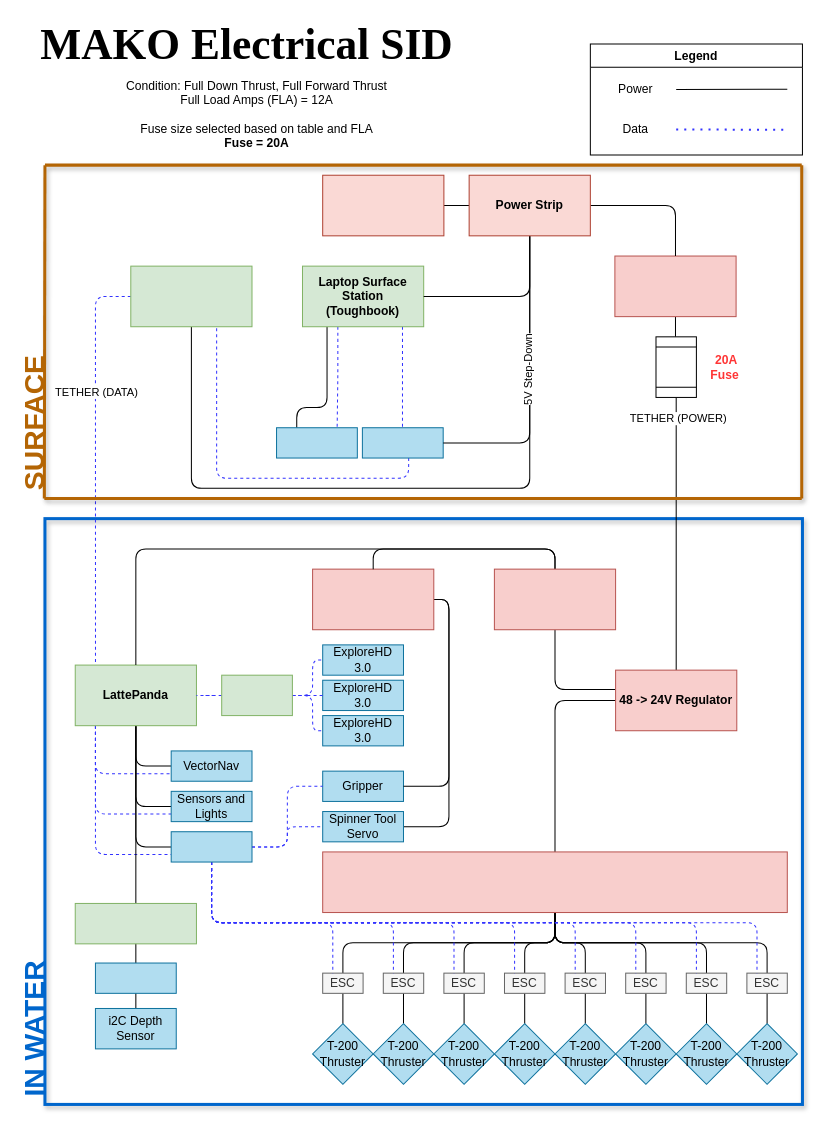
Some shapes in this 828 by 1130 pixel diagram are drawn without their labels. Here are the shapes that lost their labels. From the top down, the centre of each, then its label:
At [383,205]: "120V AC Power Source".
At [191,296]: "Fathom-X Tether Interface".
At [675,286]: "2KW 48V DC Power Supply".
At [316,442]: "Joystick and Throttle".
At [402,442]: "Wireless Router".
At [373,599]: "12v -> 6v Converter for Servos".
At [554,599]: "Vicor 12V".
At [256,695]: "Camera Hub".
At [211,846]: "Motor Controller".
At [554,882]: "ESC Power Distribution Board (PDB)".
At [135,923]: "USB Type-C Hub".
At [135,977]: "Pico 2W".
